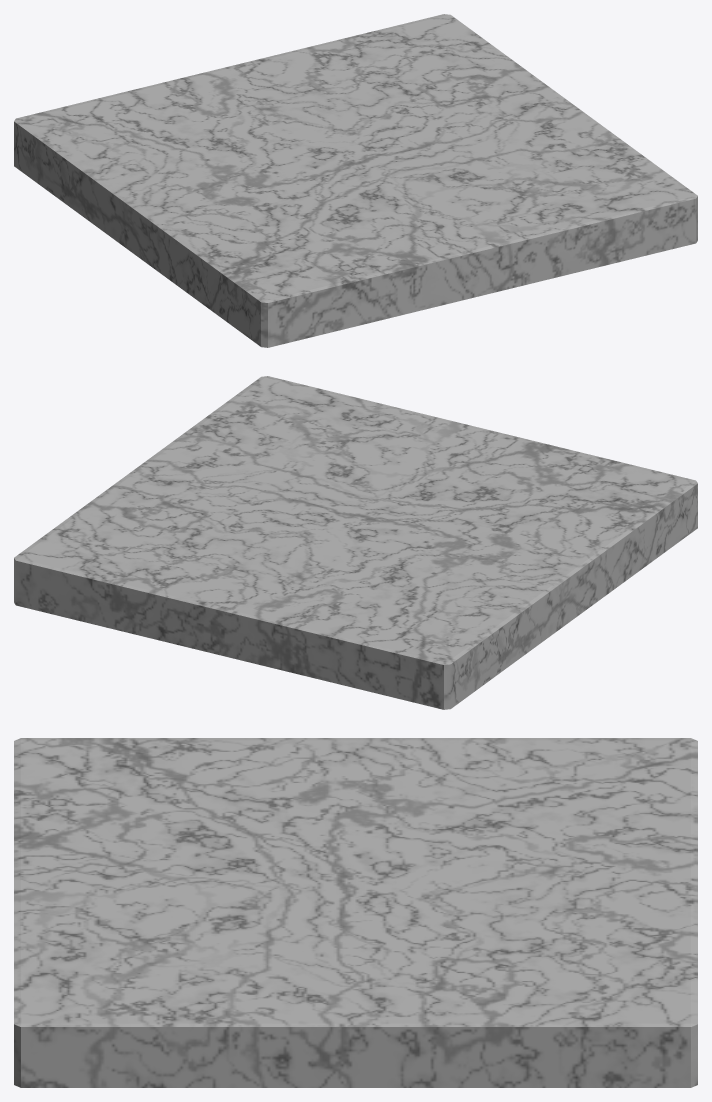
The model's file is slab_marble.glb.
3 renders of one model, top to bottom at view 1: azimuth 30°, elevation 25°; view 2: azimuth 150°, elevation 25°; view 3: azimuth 270°, elevation 25°, orthographic. The views are drawn at different scales.
Visible parts, largest first — view 1: Cube; view 2: Cube; view 3: Cube.
Boxes of the visible parts, left/top/right/bottom form: Cube: left=14, top=14, right=697, bottom=347; Cube: left=14, top=376, right=697, bottom=709; Cube: left=14, top=738, right=697, bottom=1087.
Size of the model in its own units: 1 by 0.1 by 1.
1 material, 1 textured.
